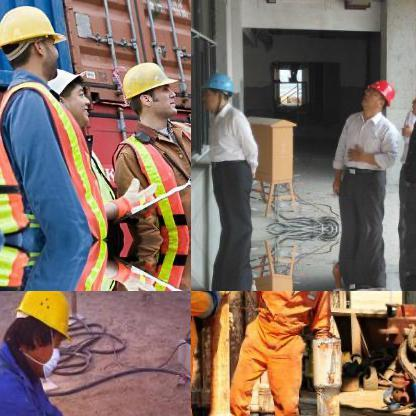Helmet: (5, 291, 79, 368), (0, 2, 63, 79), (122, 59, 178, 119), (42, 64, 88, 124), (197, 66, 238, 112), (360, 75, 398, 113)
